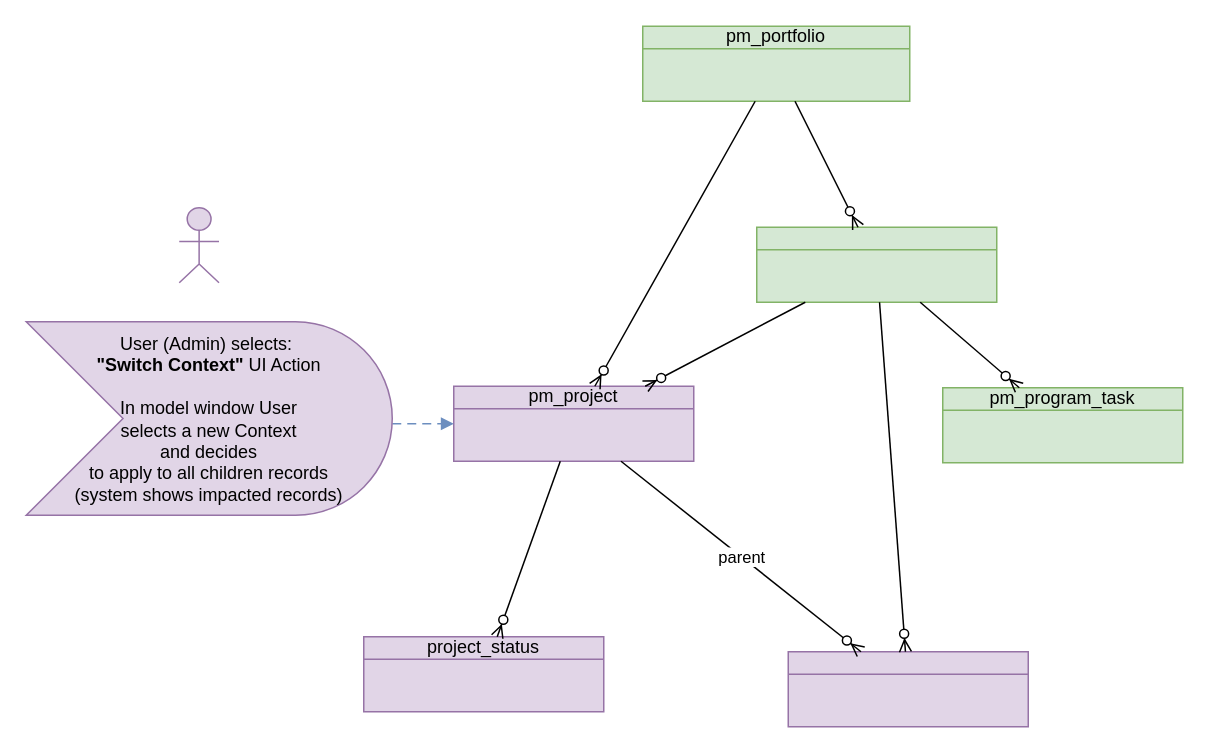
Image size: 1209x753. Some labels were removed from this diagram. Here are the shapes that lost their labels. From the top down, the centre of each, then its label:
At point (876, 264): "pm_program".
At point (907, 688): "pm_project_task".
